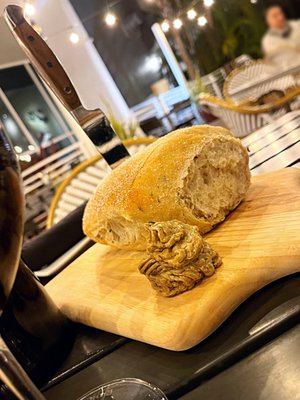pizza: (260, 1, 300, 62)
